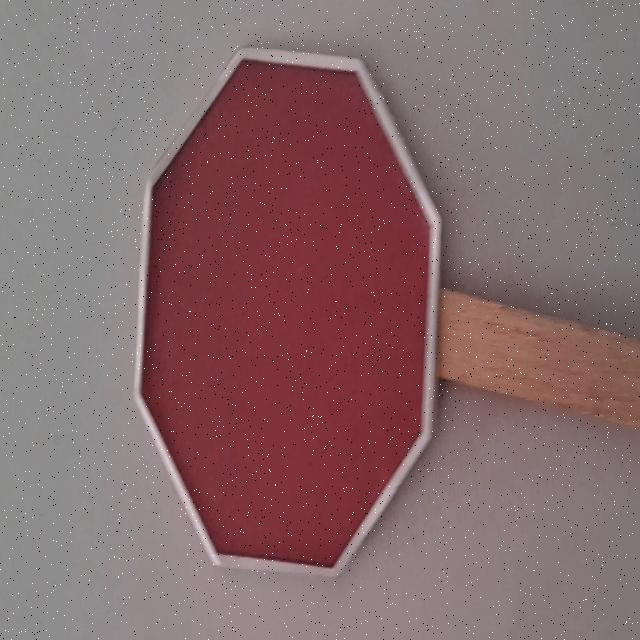Stop: (130, 55, 446, 577)
